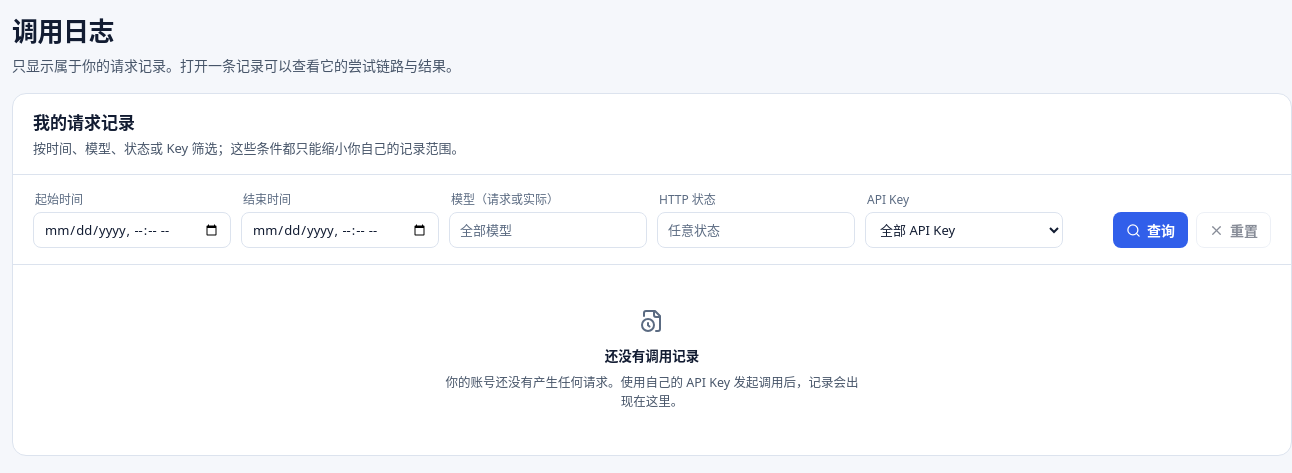
personal console request records › distinguishes an empty filter result from an account with no traffic
expect the text "还没有调用记录" is shown: met, box x1=605 y1=346 x2=699 y2=366
Type "campus-chat" into the field with placeholder "全部模型".
click(548, 230); type("campus-chat")  # box x1=449 y1=212 x2=647 y2=248
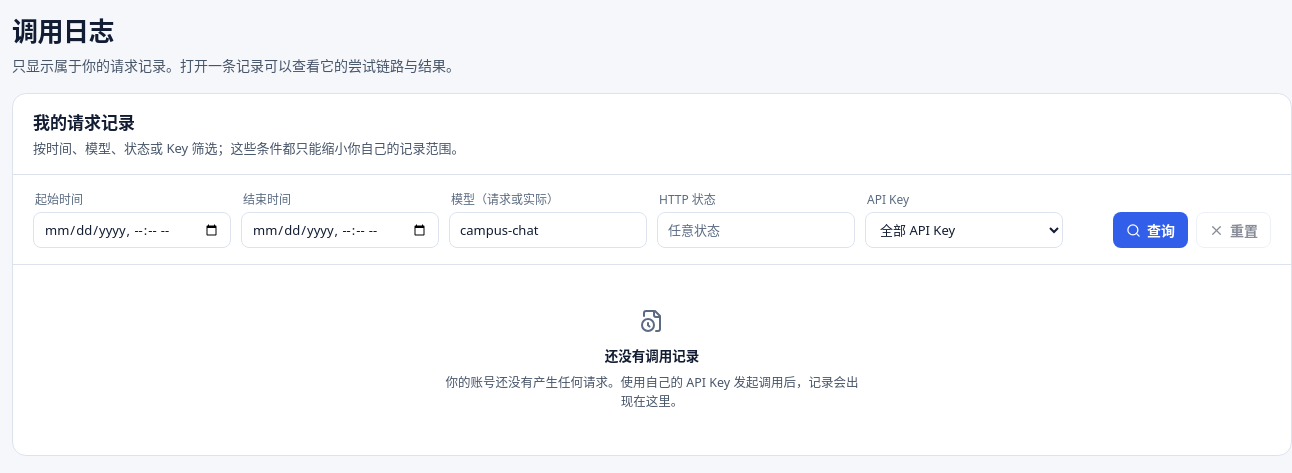
Click the button "查询".
click(1150, 230)  # box x1=1113 y1=212 x2=1188 y2=248
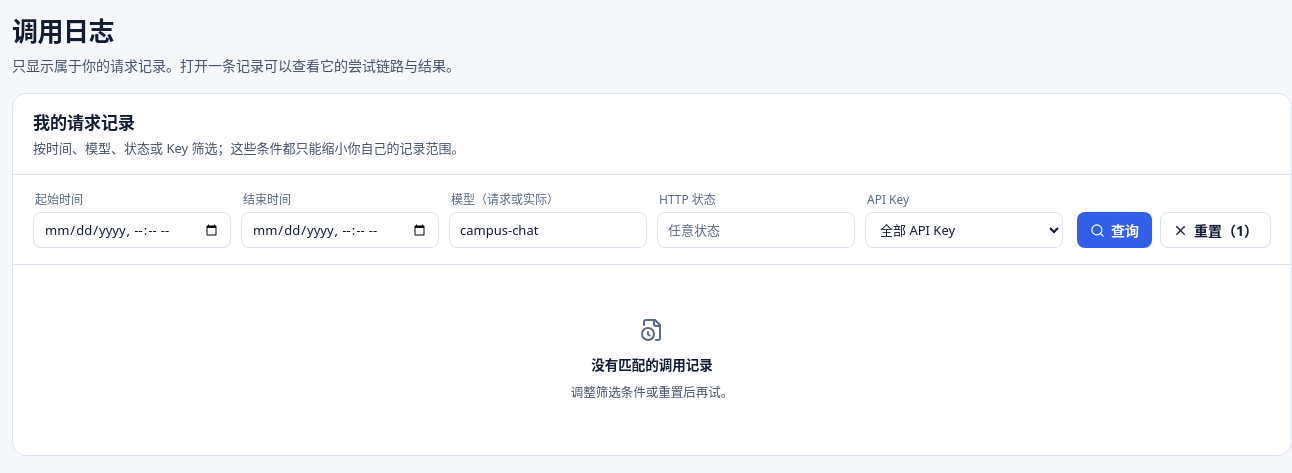
expect the text "没有匹配的调用记录" is shown: met, box x1=591 y1=355 x2=713 y2=376
